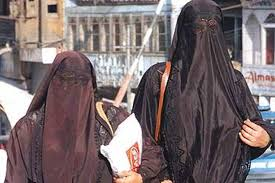mask: (182, 1, 223, 64), (52, 58, 90, 111)
